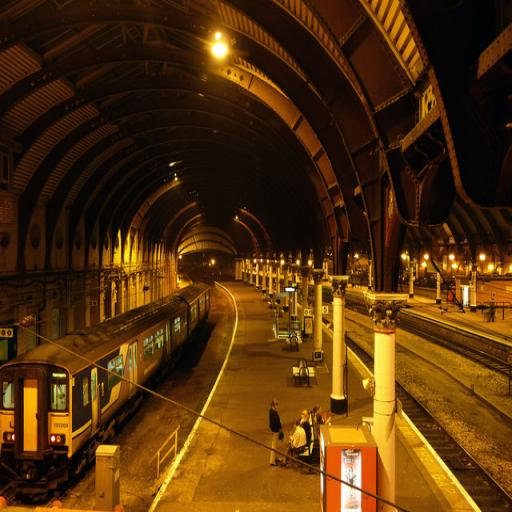platform_edge: (353, 363, 512, 512)
